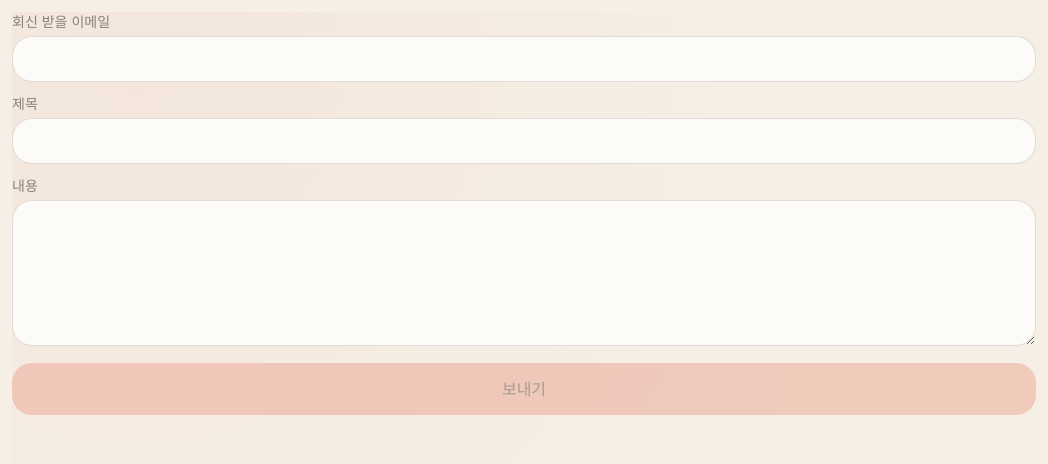
Test: 문의 폼 (§9.2) › 검증 실패 결과면 다시 확인해 달라는 오류 문구를 보여주고 폼은 남아있다
In the field labelled "회신 받을 이메일": (524, 59) top-left (12, 36), bottom-right (1036, 82), type "me@omni.app"
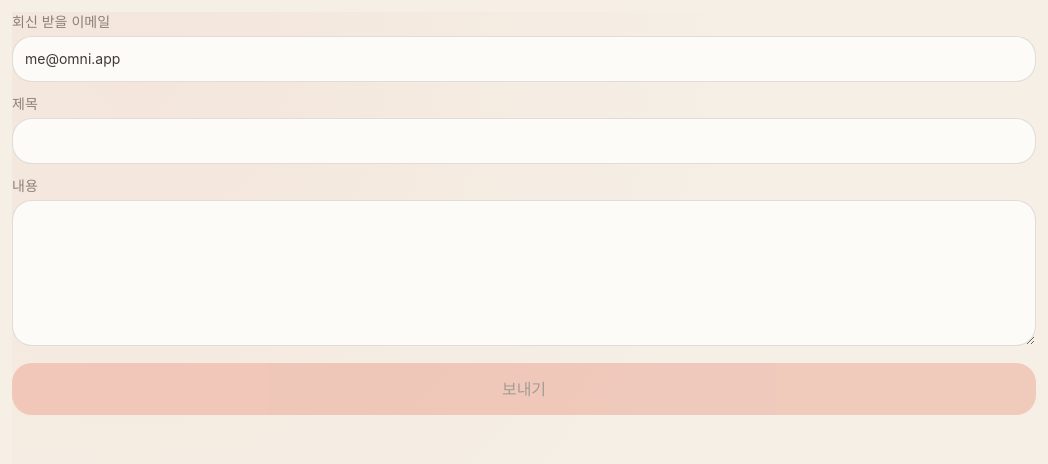
In the field labelled "제목": (524, 141) top-left (12, 118), bottom-right (1036, 164), type "문의 제목"
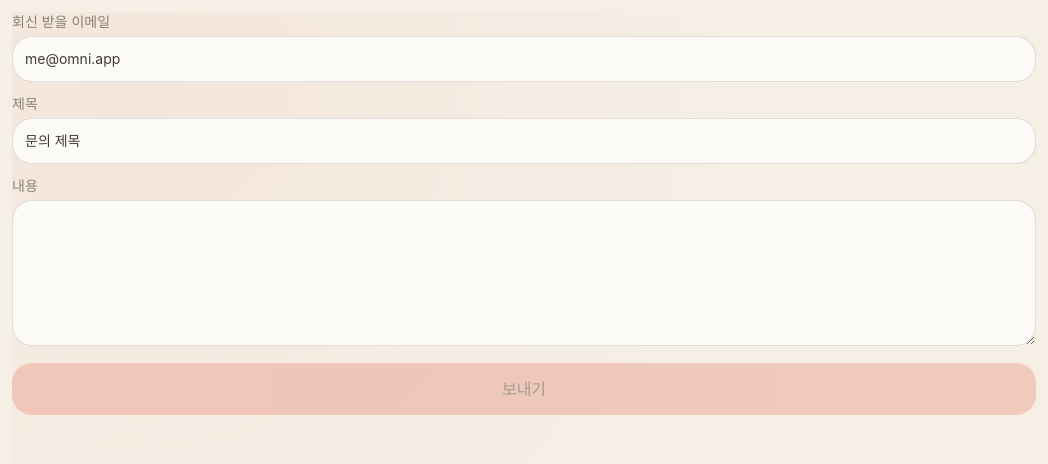
In the text box labelled "내용": (524, 273) top-left (12, 200), bottom-right (1036, 346), type "문의 내용입니다"
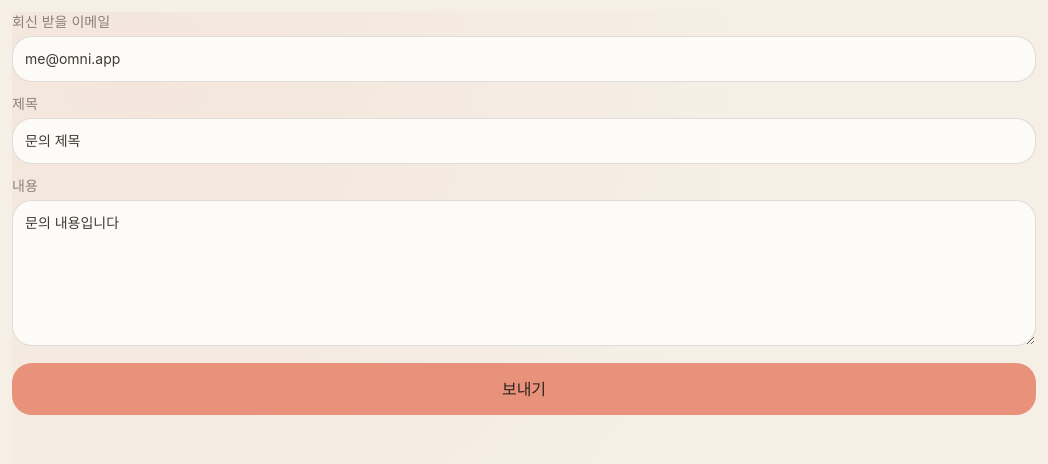
Click the button "보내기": (524, 389) top-left (12, 363), bottom-right (1036, 415)
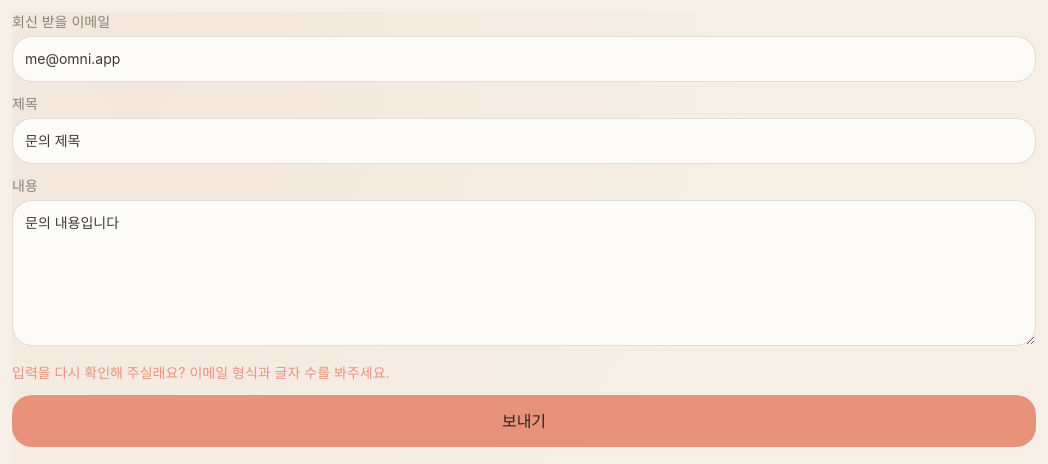
Now the text "입력을 다시 확인해 주실래요? 이메일 형식과 글자 수를 봐주세요." is shown, box top-left (12, 364), bottom-right (390, 381)
